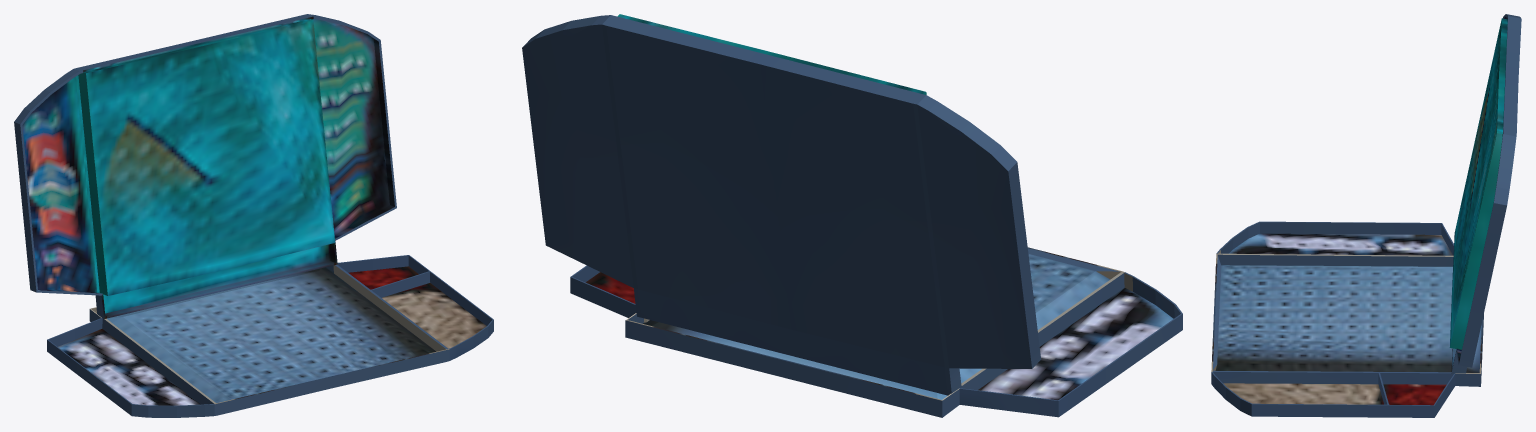
Rendered from Battleship_Stand.fbx.
3 renders of one model, left to right at view 1: azimuth 30°, elevation 25°; view 2: azimuth 150°, elevation 25°; view 3: azimuth 270°, elevation 25°, orthographic. The views are drawn at different scales.
Visible parts, largest first — view 1: Stand_Closed.002; view 2: Stand_Closed.002; view 3: Stand_Closed.002.
Boxes of the visible parts, x1,y1,x2,y2 form: Stand_Closed.002: (14, 14, 493, 417); Stand_Closed.002: (522, 14, 1182, 417); Stand_Closed.002: (1211, 14, 1521, 417).
Size of the model in its own units: 0.1684 by 0.1078 by 0.1198.
